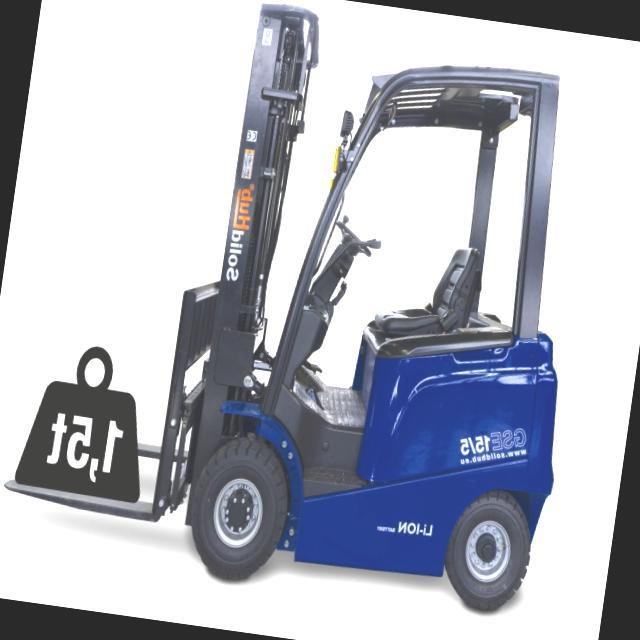forklift: (135, 0, 625, 627)
